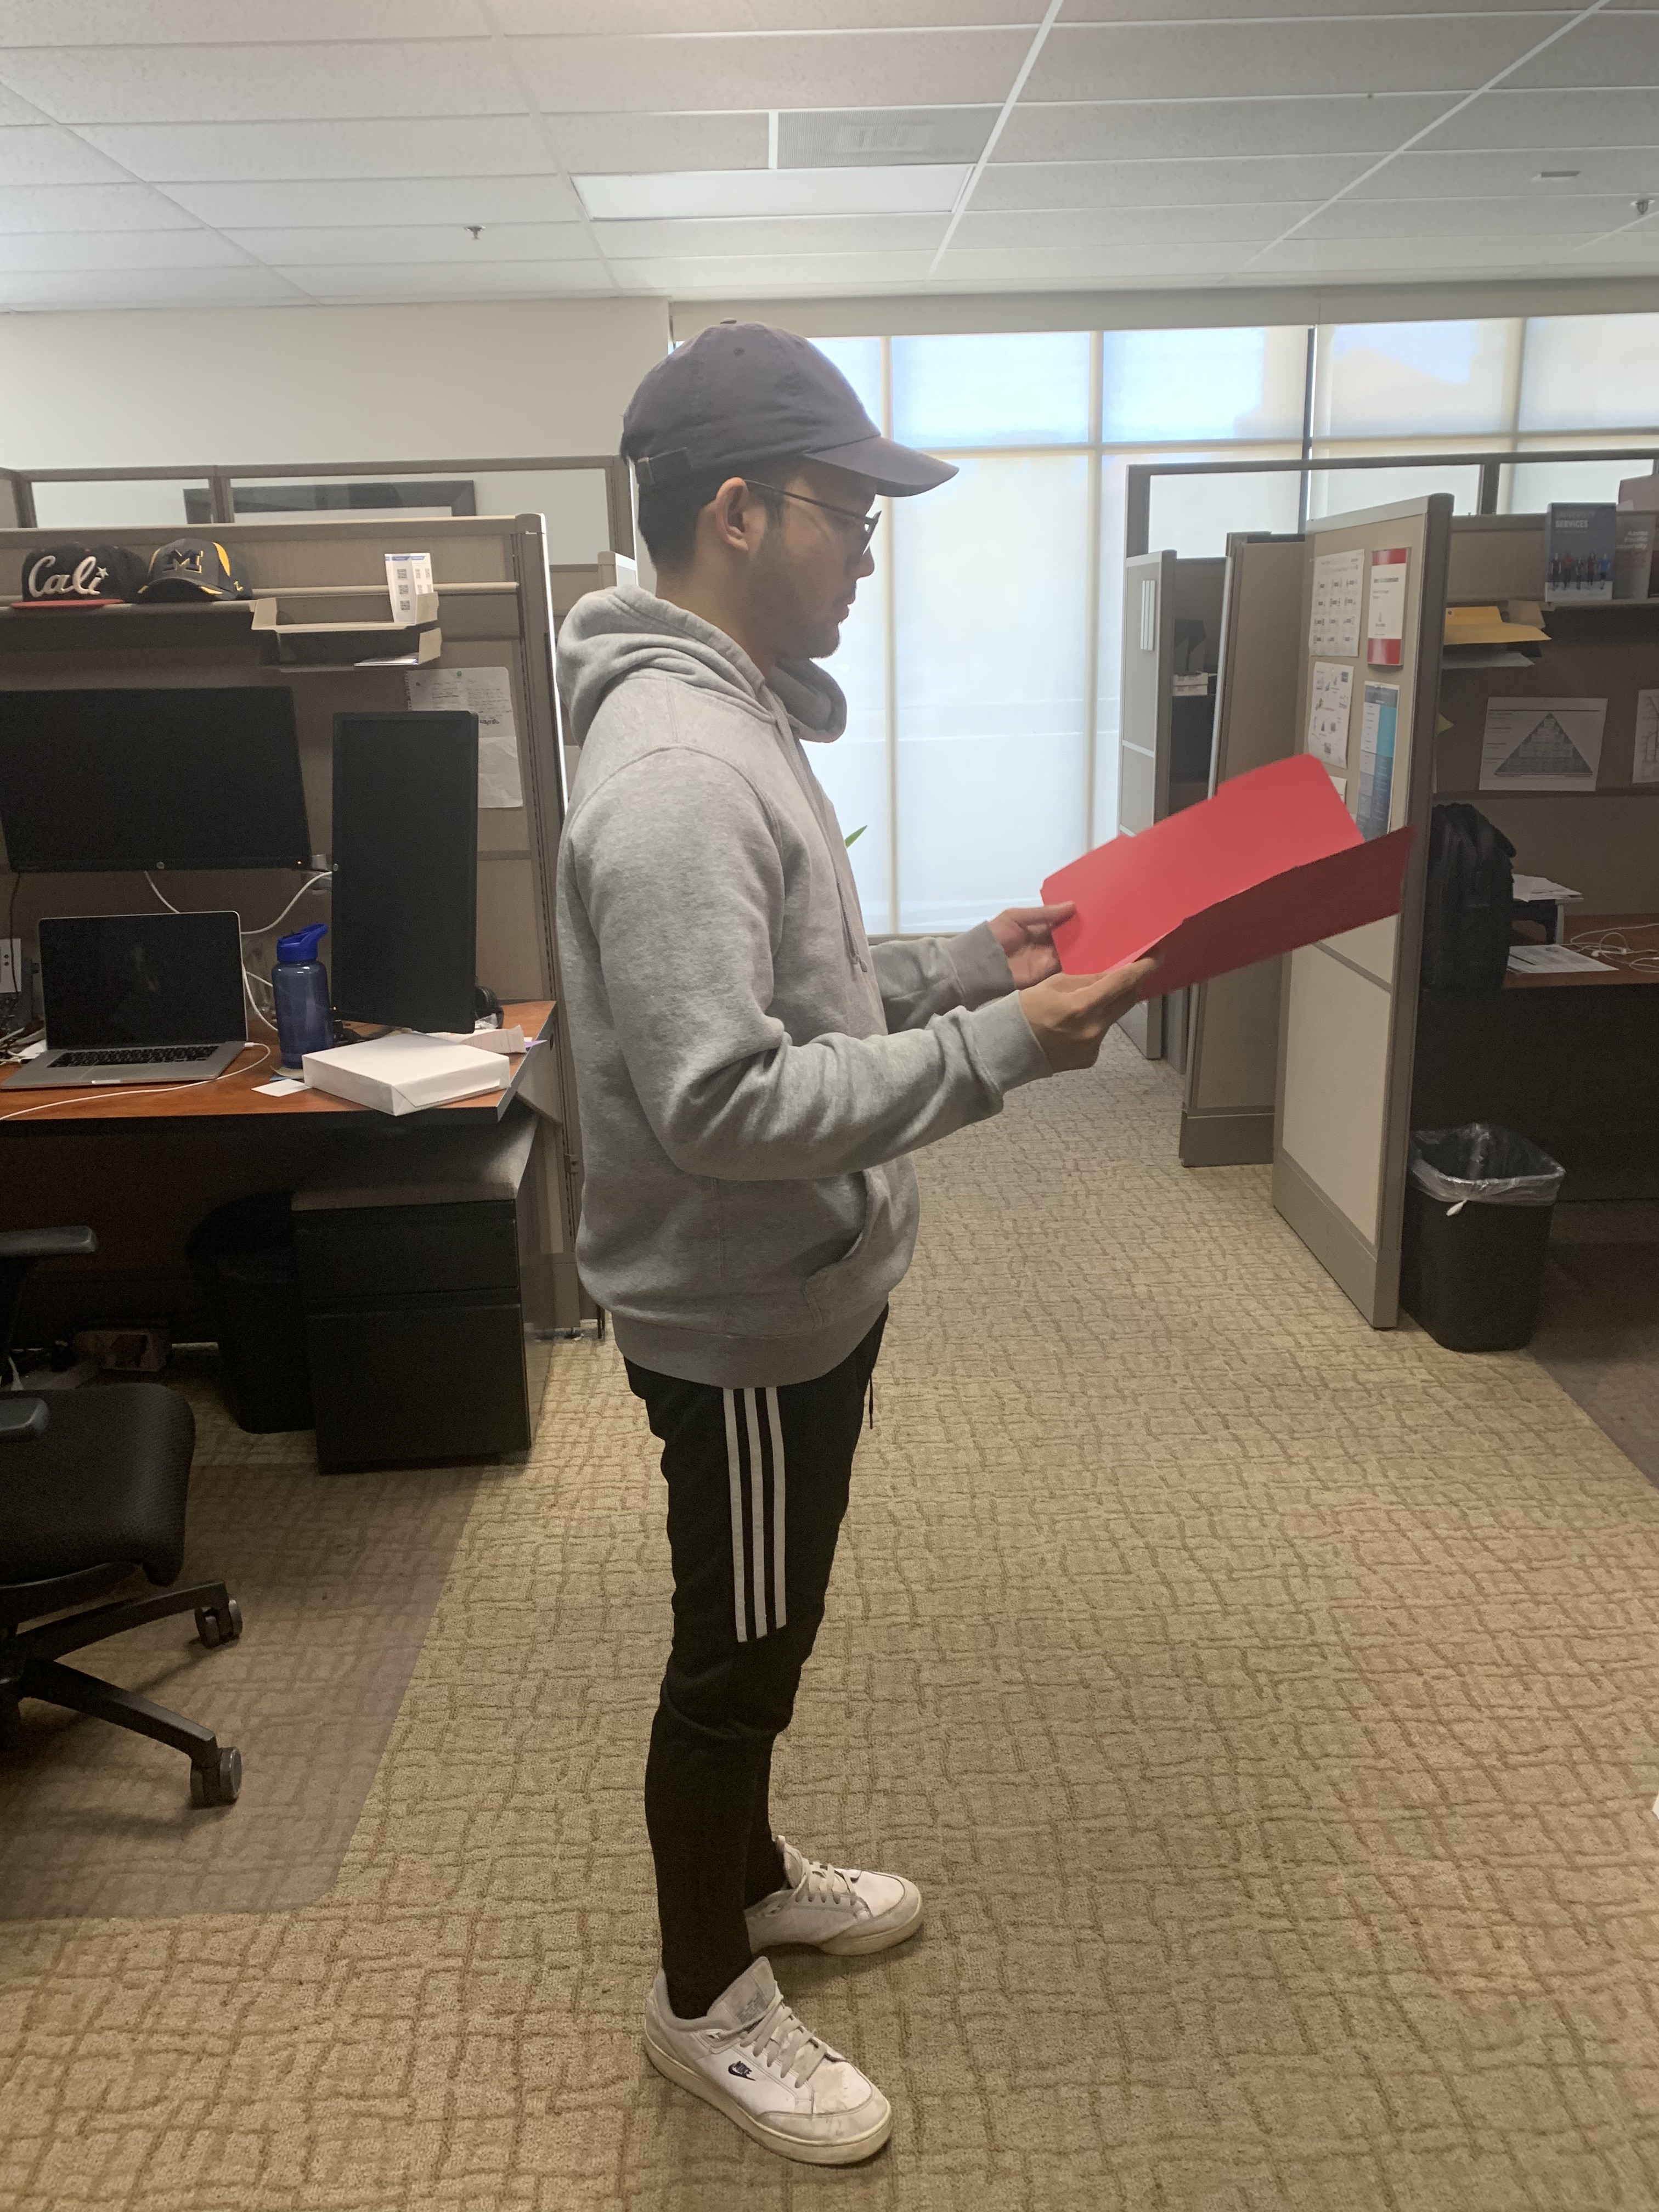red folder: (1016, 747, 1445, 1010)
